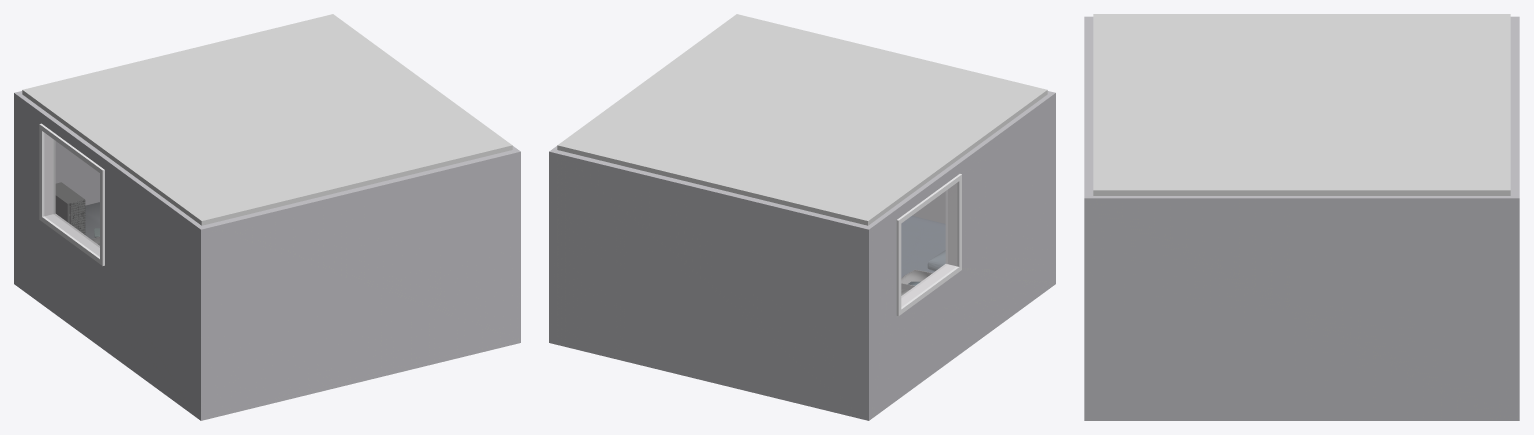
The model's file is fp_room-transformed.glb.
3 renders of one model, left to right at view 1: azimuth 30°, elevation 25°; view 2: azimuth 150°, elevation 25°; view 3: azimuth 270°, elevation 25°, orthographic. The views are drawn at different scales.
Parts seen in each view (by area): view 1: Plane.006, Cylinder, Window Glass, Plane.002, keyboard_back, table; view 2: Plane.006, Cylinder, Plane.002, Window Glass; view 3: Plane.006, Cylinder.
Part boxes in pixels (x1=…): Plane.006: x1=14, y1=91, x2=520, y2=420; Cylinder: x1=22, y1=14, x2=512, y2=225; Window Glass: x1=44, y1=133, x2=99, y2=256; Plane.002: x1=39, y1=123, x2=104, y2=265; keyboard_back: x1=55, y1=182, x2=84, y2=232; table: x1=85, y1=202, x2=99, y2=238; Plane.006: x1=549, y1=91, x2=1055, y2=420; Cylinder: x1=557, y1=14, x2=1047, y2=225; Plane.002: x1=896, y1=174, x2=961, y2=316; Window Glass: x1=901, y1=183, x2=956, y2=306; Plane.006: x1=1084, y1=16, x2=1519, y2=420; Cylinder: x1=1093, y1=14, x2=1510, y2=195.
Bounding box in the file's own units: 7.05 × 4.1 × 7.09.
Materials: 12 (12 with a texture image).
